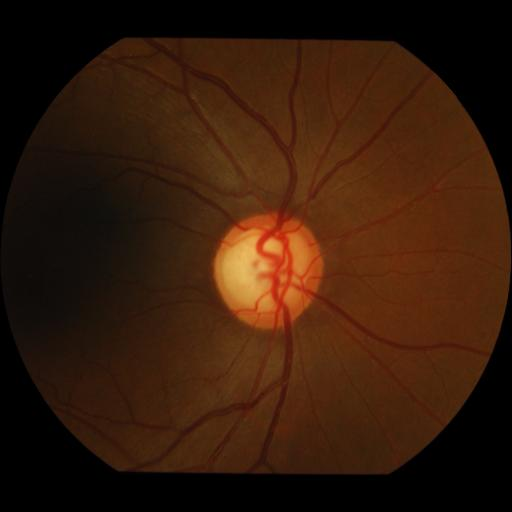Optic Cup: (221, 226, 309, 308)
Optic Disc: (214, 213, 323, 333)
